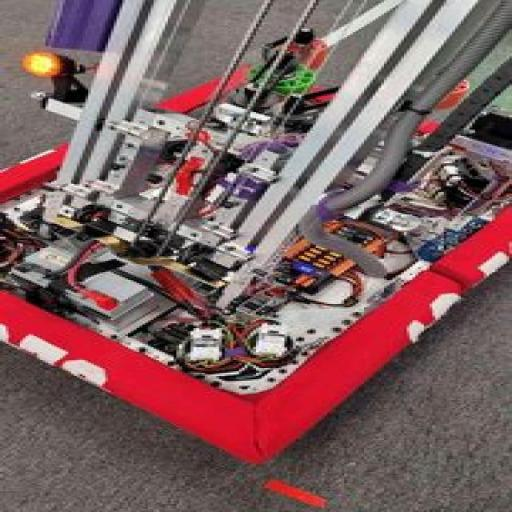robot: (0, 0, 512, 470)
